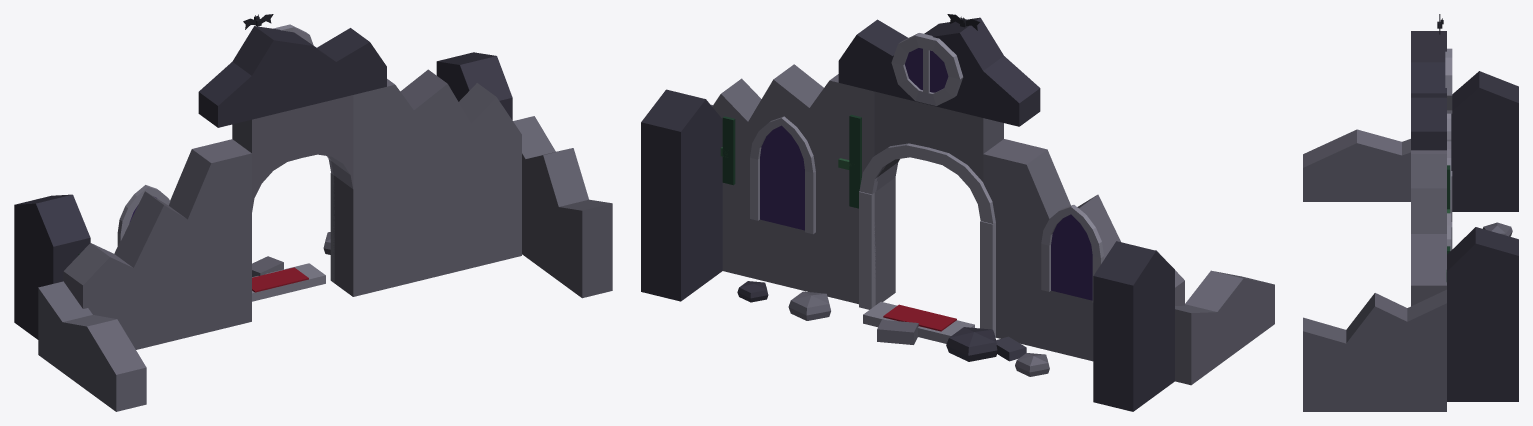
Rendered from Decor_VampireCrypt_Chapel.fbx.
The picture shows the model from 3 angles, left to right: view 1: azimuth 30°, elevation 25°; view 2: azimuth 150°, elevation 25°; view 3: azimuth 270°, elevation 25°; orthographic projection. The views are drawn at different scales.
Visible parts, largest first — view 1: Chapel_Body; view 2: Chapel_Body; view 3: Chapel_Body.
Boxes of the visible parts, bbox=[...] form: Chapel_Body: bbox=[14, 14, 612, 411]; Chapel_Body: bbox=[641, 14, 1274, 411]; Chapel_Body: bbox=[1303, 14, 1518, 411].
Bounding box in the file's own units: 29.4 × 16.4 × 12.
